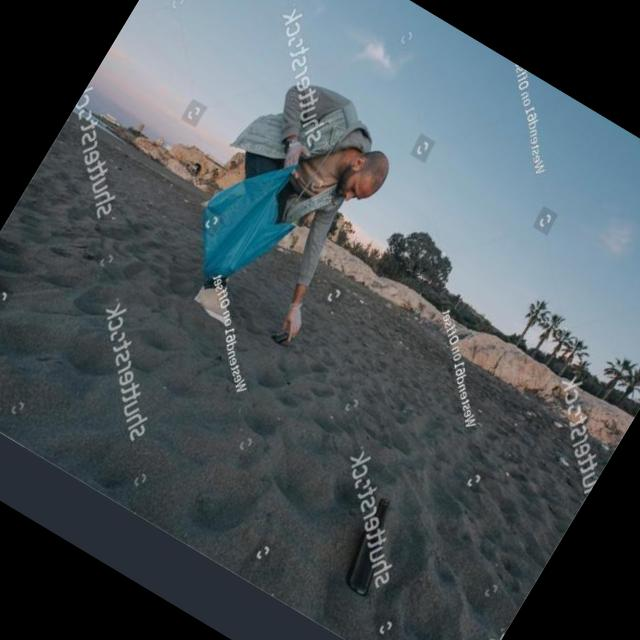KantongPlastik: (175, 139, 326, 300)
